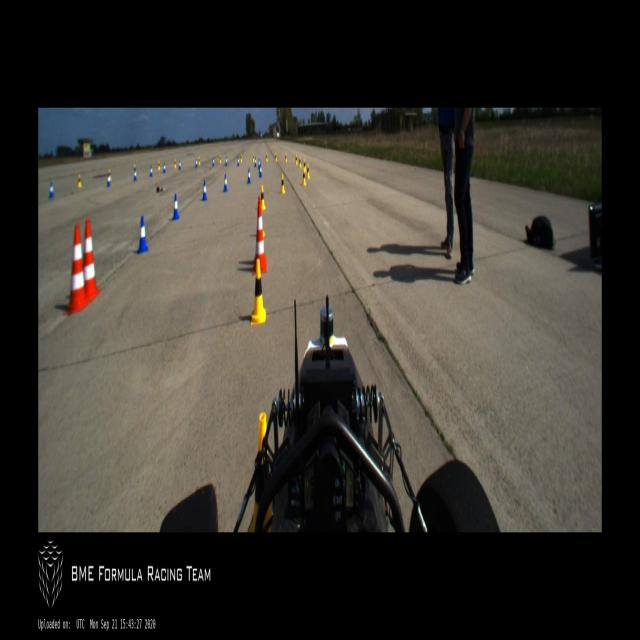blue_cone: (137, 215, 148, 254), (172, 193, 180, 220), (202, 180, 208, 201), (223, 173, 228, 192), (49, 183, 54, 198), (247, 168, 251, 184), (107, 173, 110, 187), (134, 168, 137, 181), (150, 166, 153, 178), (163, 163, 166, 172), (260, 165, 262, 177), (195, 158, 197, 168), (258, 158, 260, 168), (178, 160, 180, 169), (212, 157, 214, 166), (225, 157, 227, 166), (237, 157, 239, 166), (254, 157, 256, 166)
large_orange_cone: (63, 222, 87, 315), (83, 218, 102, 304), (254, 197, 266, 272)
yellow_cone: (247, 412, 278, 530), (251, 258, 266, 326), (260, 185, 266, 210), (280, 172, 285, 194), (302, 168, 306, 186), (306, 163, 310, 179), (78, 174, 82, 188), (108, 168, 112, 180), (133, 163, 136, 175), (173, 158, 176, 168), (252, 152, 255, 162), (304, 158, 306, 172), (299, 155, 301, 168), (295, 154, 297, 166), (275, 152, 277, 162), (284, 153, 286, 162), (158, 160, 160, 169), (198, 157, 200, 166), (266, 153, 268, 162), (219, 155, 221, 163), (240, 154, 242, 162)
